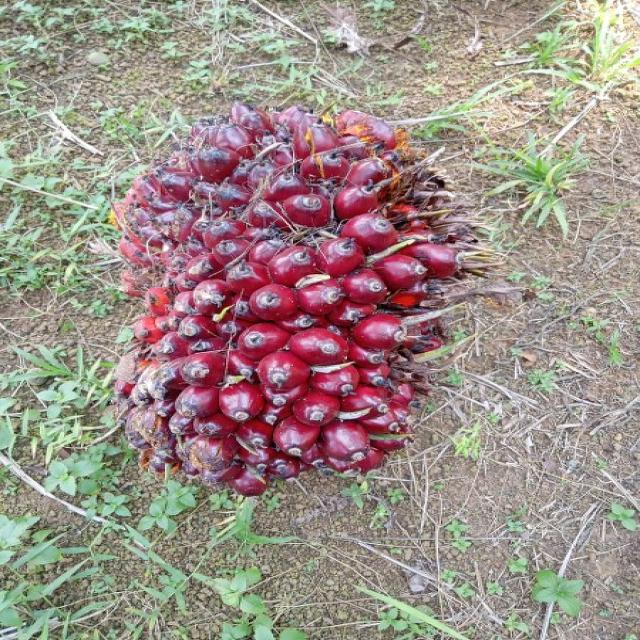fraksi 1: (84, 78, 499, 539)
